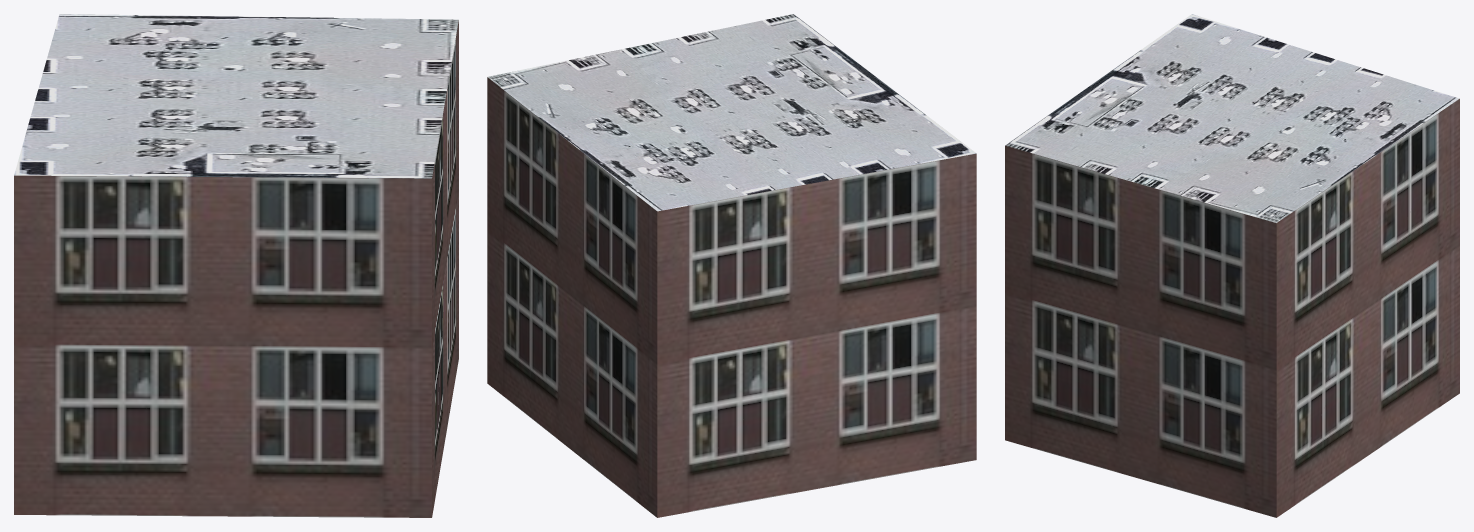
Rendered from ResTex__4249.fbx.
3 renders of one model, left to right at view 1: azimuth 30°, elevation 25°; view 2: azimuth 150°, elevation 25°; view 3: azimuth 270°, elevation 25°, orthographic. The views are drawn at different scales.
Parts seen in each view (by area): view 1: CityEngineMaterial_12_m, CityEngineMaterial_2_m; view 2: CityEngineMaterial_12_m, CityEngineMaterial_2_m; view 3: CityEngineMaterial_12_m, CityEngineMaterial_2_m.
Boxes of the visible parts, x1,y1,x2,y2 form: CityEngineMaterial_12_m: (14, 20, 458, 517); CityEngineMaterial_2_m: (14, 14, 458, 178); CityEngineMaterial_12_m: (487, 77, 976, 517); CityEngineMaterial_2_m: (487, 14, 976, 211); CityEngineMaterial_12_m: (1005, 99, 1459, 517); CityEngineMaterial_2_m: (1005, 14, 1459, 222).
Size of the model in its own units: 9.13 by 6 by 8.39.
Materials: 2 (2 with a texture image).
